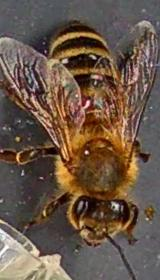varroa_mite: (68, 91, 96, 114)
